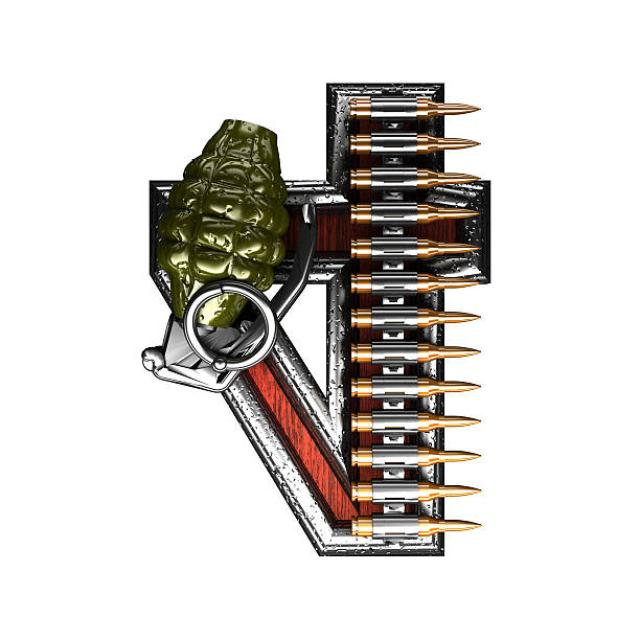grenade: (135, 115, 323, 398)
